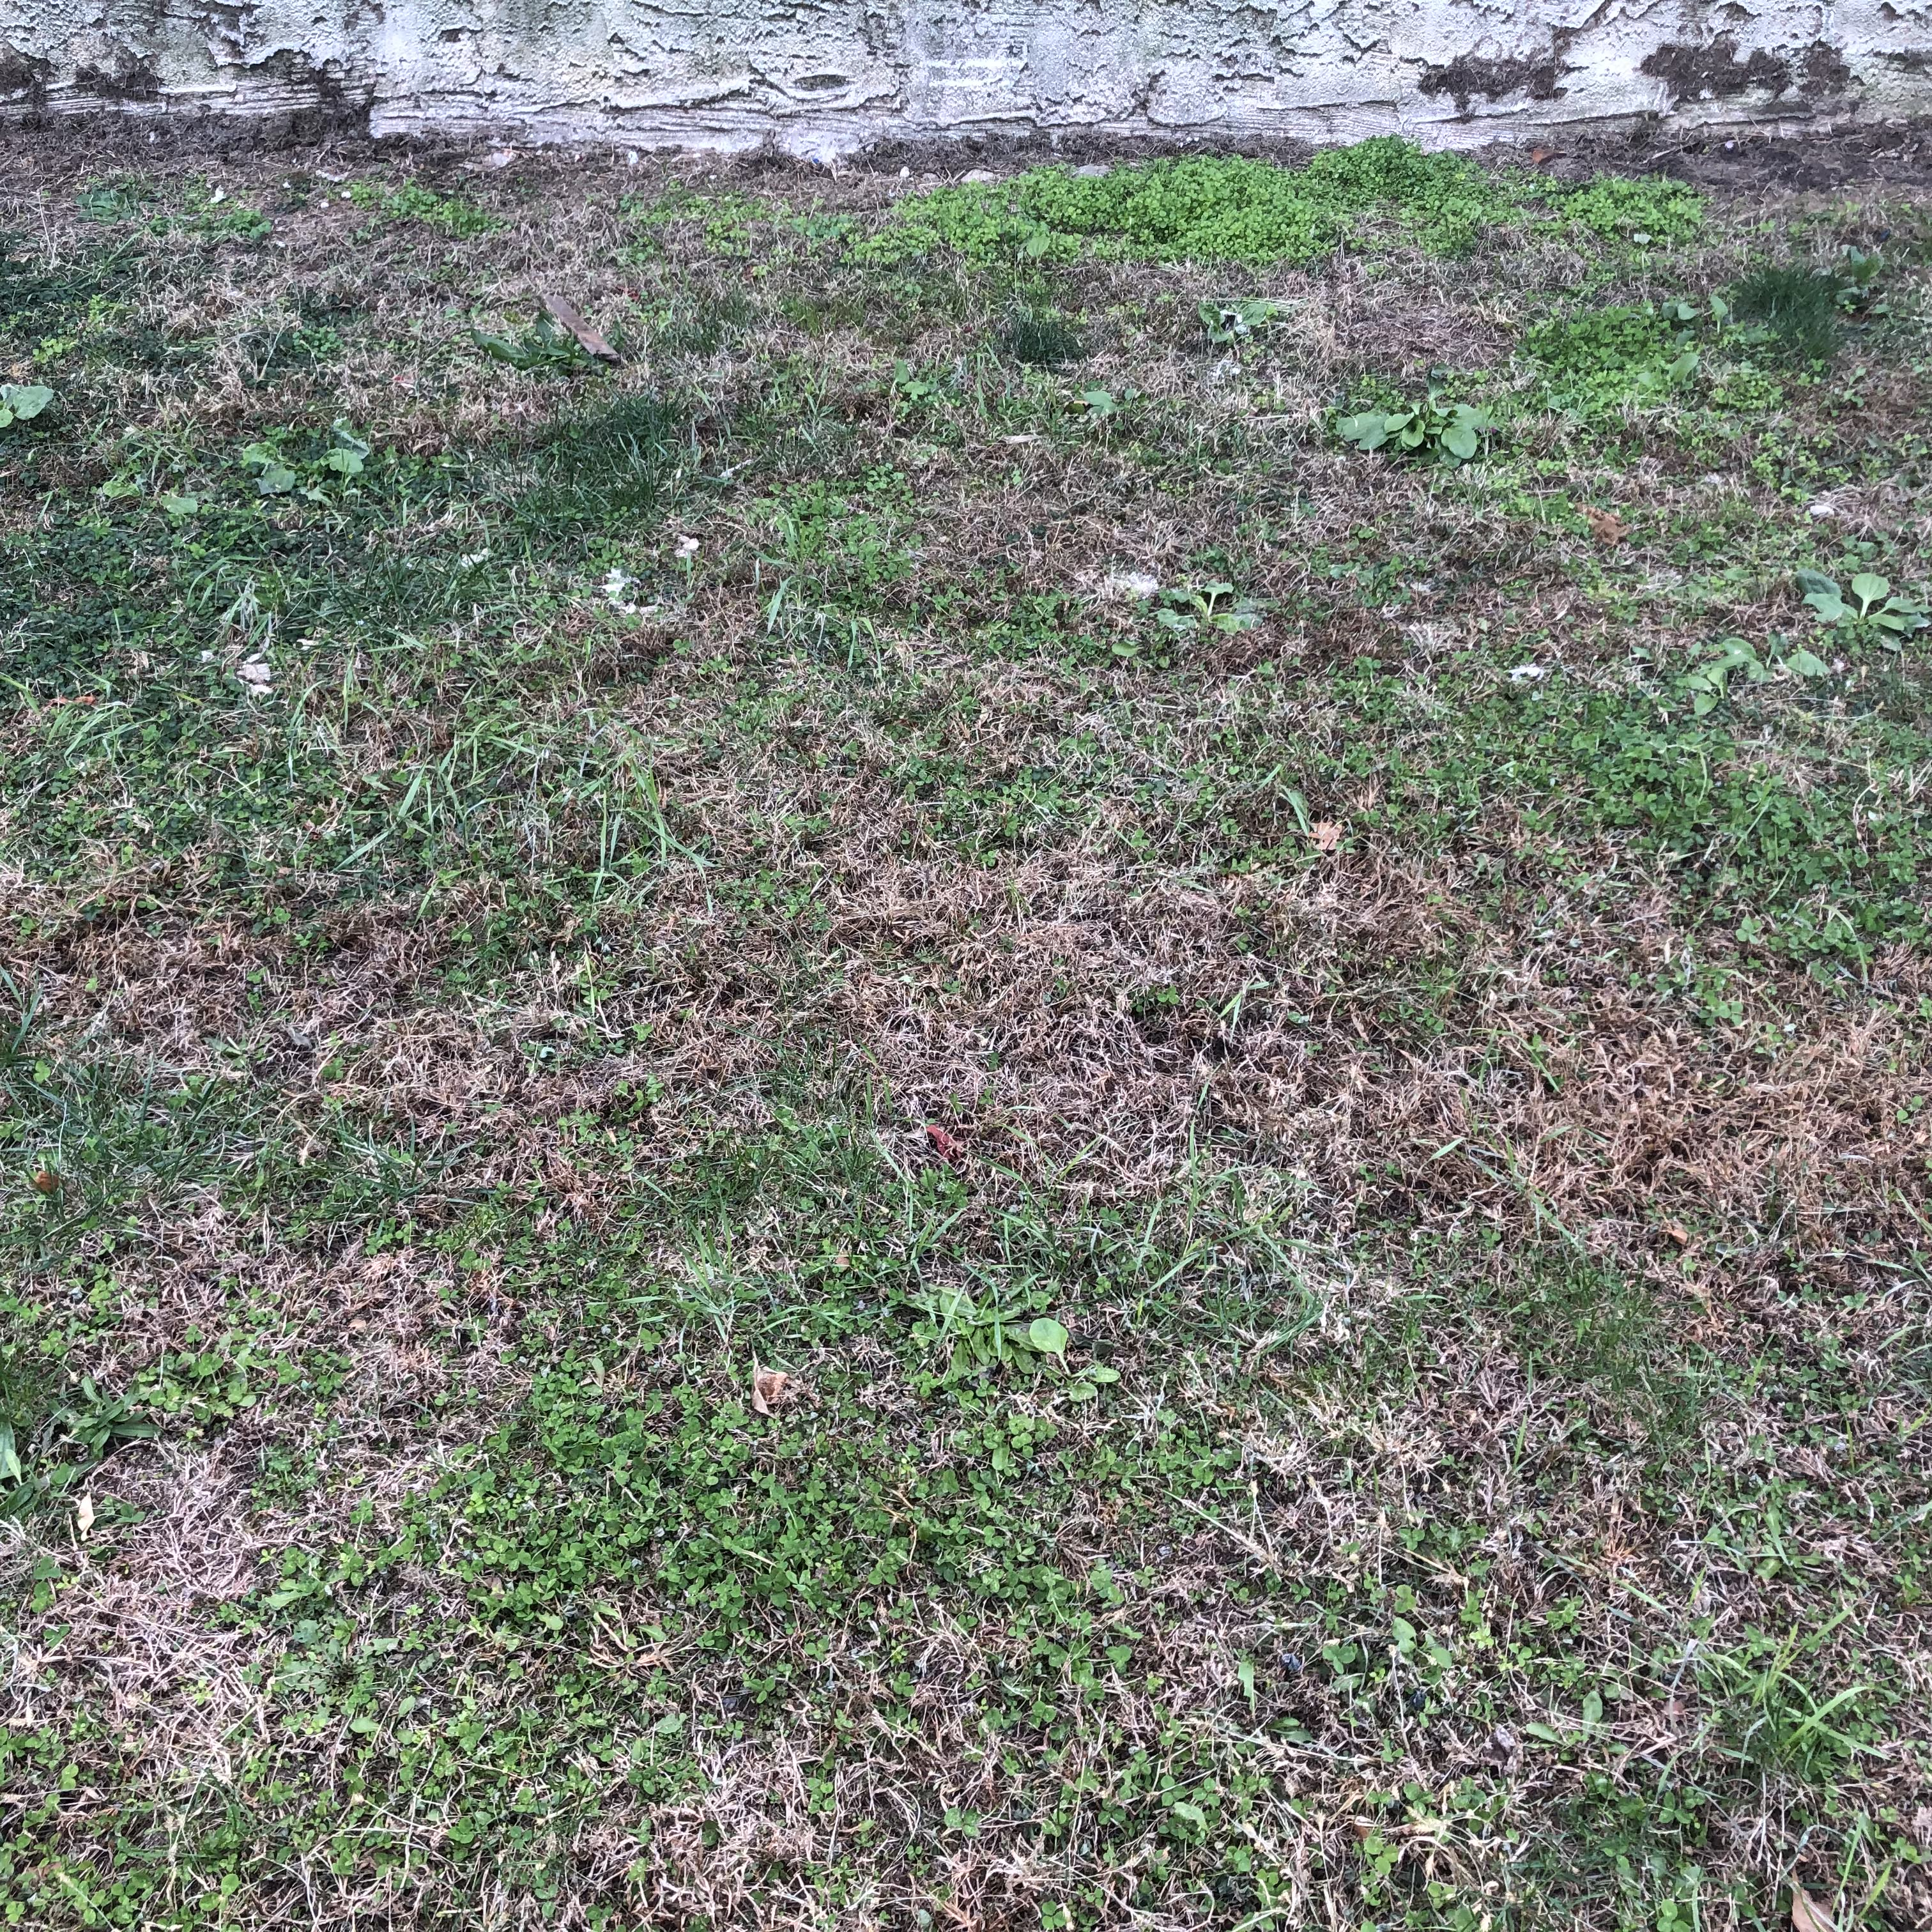good_lawn: (48, 223, 1861, 1799)
